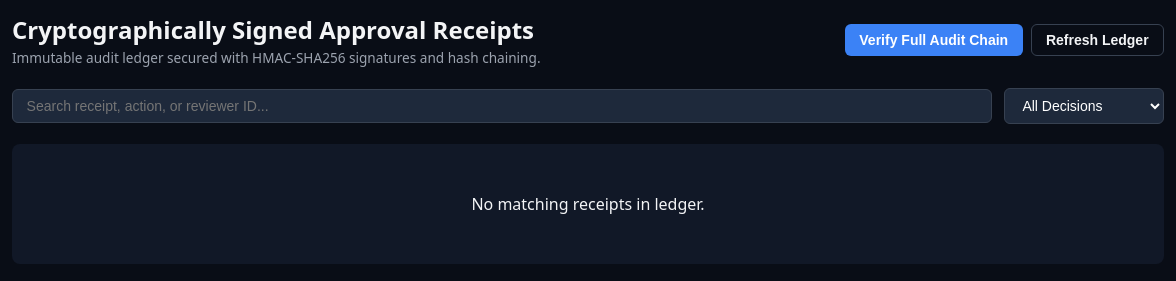
Test: receipt ledger › filters the ledger by search and decision
Check: the text "No matching receipts in ledger." is shown, box left=12, top=144, right=1164, bottom=264
Type "reviewer-12" into the field named "Search receipts". click: coordinates (502, 106)
box: left=12, top=89, right=992, bottom=123
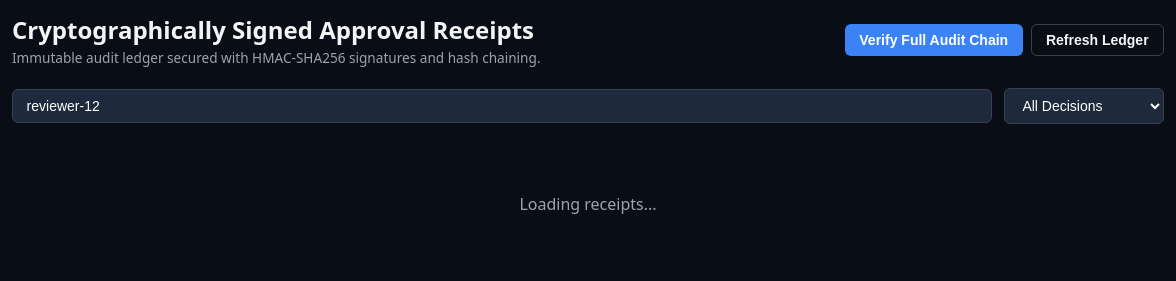
Select "Reject" in the dropdown named "Filter receipt decision". click: coordinates (1084, 106)
box: left=1004, top=88, right=1164, bottom=124
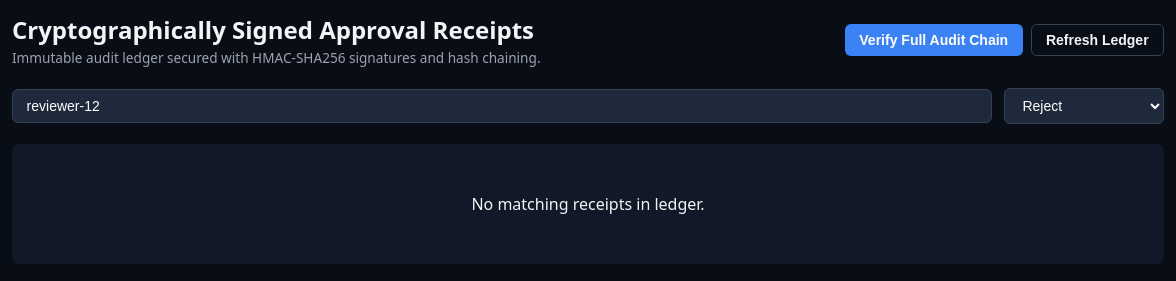
Check: the text "No matching receipts in ledger." is shown, box left=12, top=144, right=1164, bottom=264
